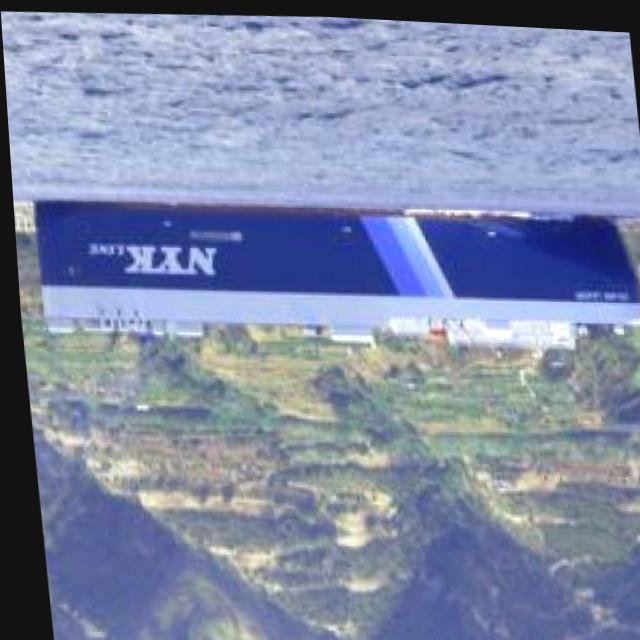ship2: (29, 199, 640, 344)
